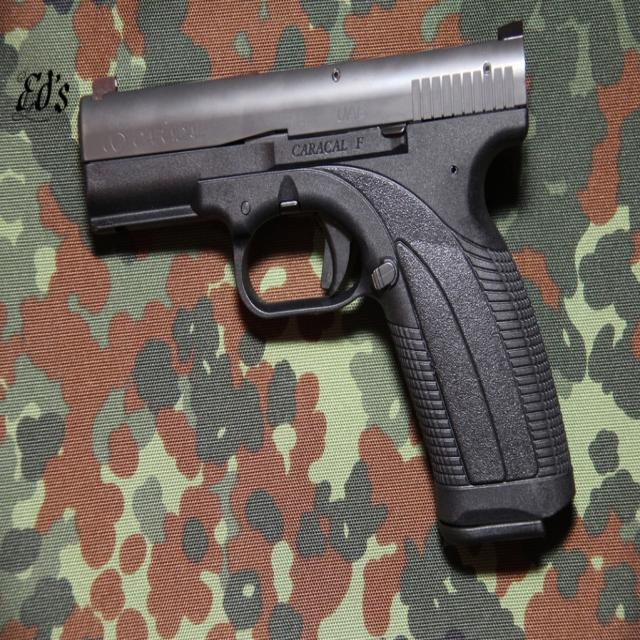Gun: (62, 18, 594, 577)
